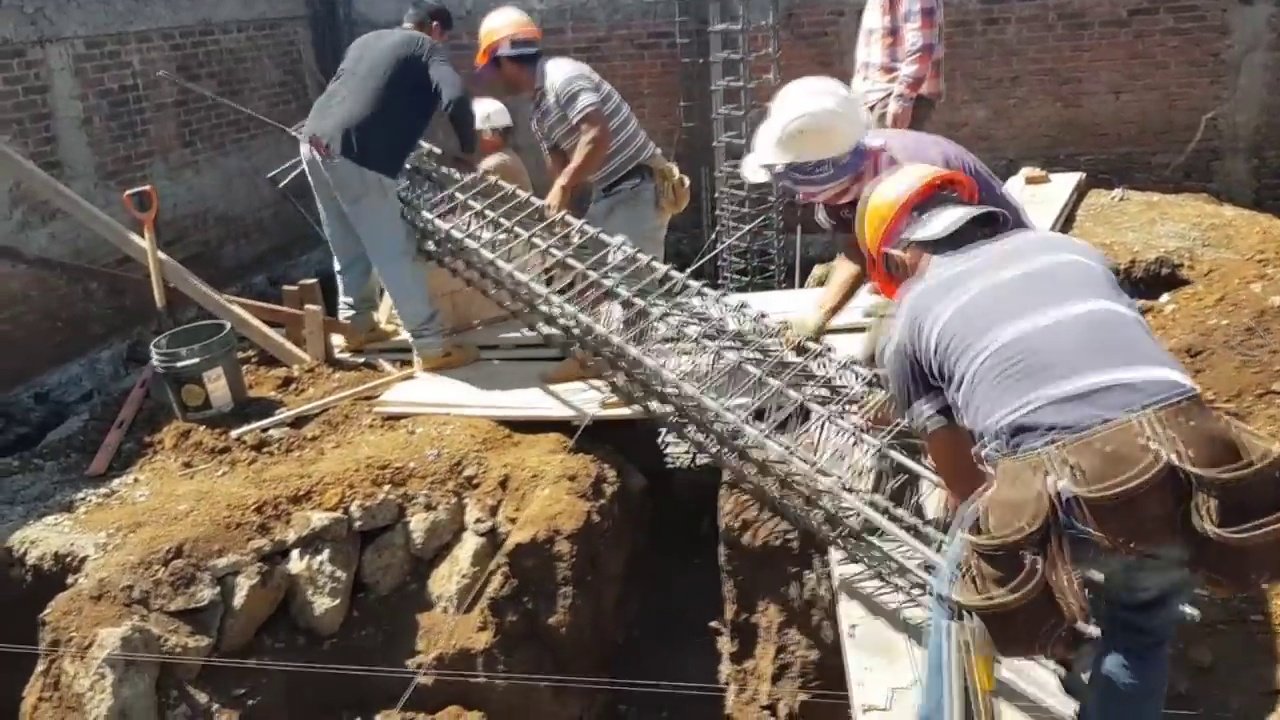helmet: (852, 164, 986, 294), (751, 72, 872, 161), (470, 11, 539, 63), (468, 96, 514, 134)
helmet-off: (406, 1, 450, 40)
helmet-on: (853, 163, 1020, 306), (748, 67, 882, 219), (469, 7, 544, 93), (464, 96, 512, 159)
person: (823, 149, 1240, 675), (468, 7, 668, 414), (744, 69, 1018, 334), (305, 0, 480, 377), (462, 94, 553, 306), (853, 2, 955, 143)
